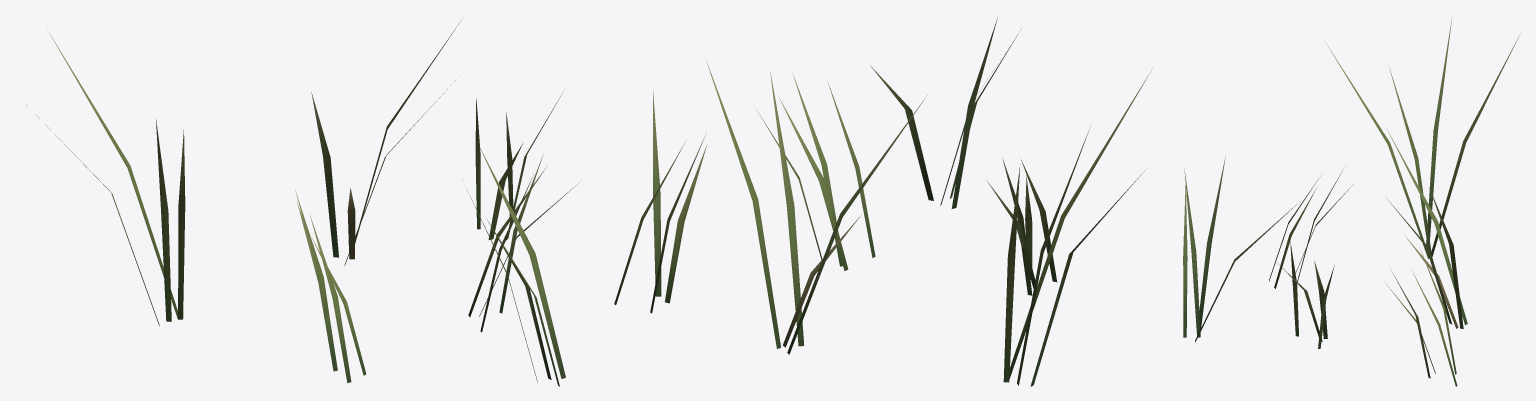
The model's file is meadow_fine_mid.gltf.
The picture shows the model from 3 angles, left to right: view 1: azimuth 30°, elevation 25°; view 2: azimuth 150°, elevation 25°; view 3: azimuth 270°, elevation 25°; orthographic projection. The views are drawn at different scales.
Parts seen in each view (by area): view 1: meadow_fine_mid; view 2: meadow_fine_mid; view 3: meadow_fine_mid.
Part boxes in pixels (left/top/right/bottom): meadow_fine_mid: left=26, top=20, right=581, bottom=386; meadow_fine_mid: left=614, top=17, right=1152, bottom=386; meadow_fine_mid: left=1183, top=17, right=1520, bottom=386.
Bounding box in the file's own units: 1.4 × 0.7019 × 1.08.
3 materials, 3 textured.
